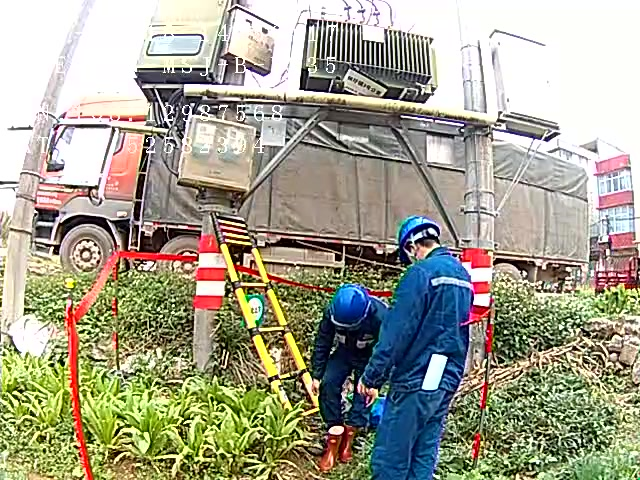halt: (399, 220, 445, 264), (331, 287, 375, 329)
